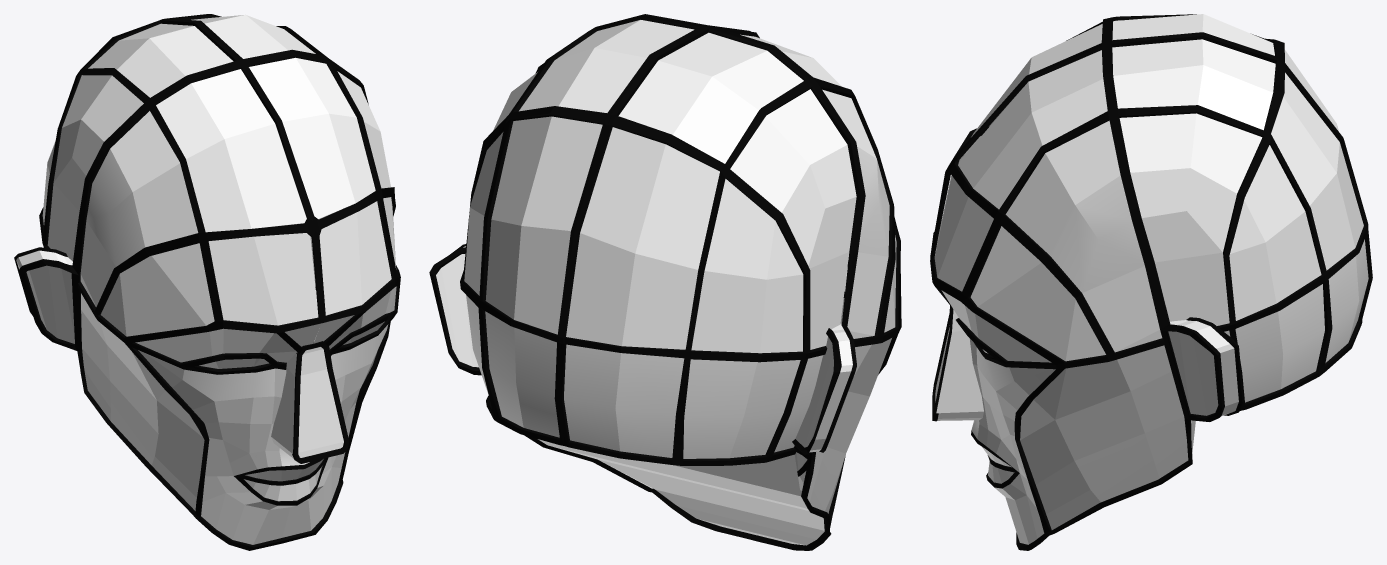
Rendered from CA_Head.glb.
3 renders of one model, left to right at view 1: azimuth 30°, elevation 25°; view 2: azimuth 150°, elevation 25°; view 3: azimuth 270°, elevation 25°, orthographic. The views are drawn at different scales.
Visible parts, largest first — view 1: CA_Head; view 2: CA_Head; view 3: CA_Head.
Part boxes in pixels (x1=…): CA_Head: x1=14, y1=14, x2=400, y2=550; CA_Head: x1=429, y1=14, x2=901, y2=550; CA_Head: x1=930, y1=14, x2=1372, y2=550.
Size of the model in its own units: 0.8744 by 1.12 by 0.8976.
Materials: 1 (1 with a texture image).
